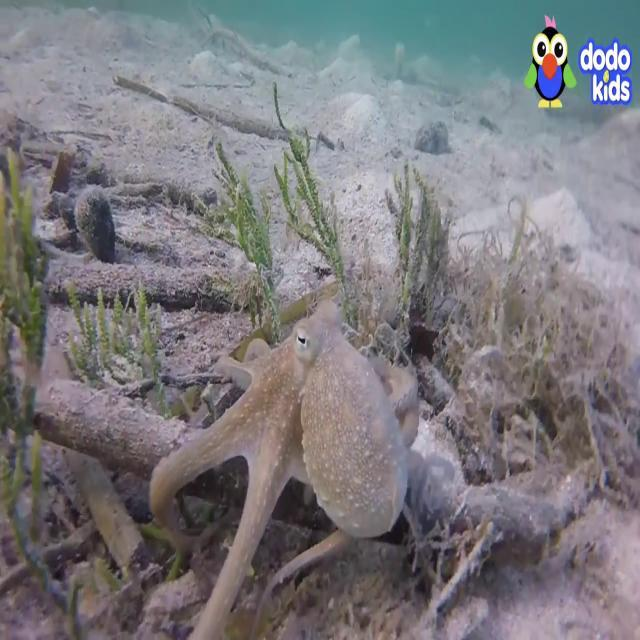octopus: (150, 298, 423, 640)
